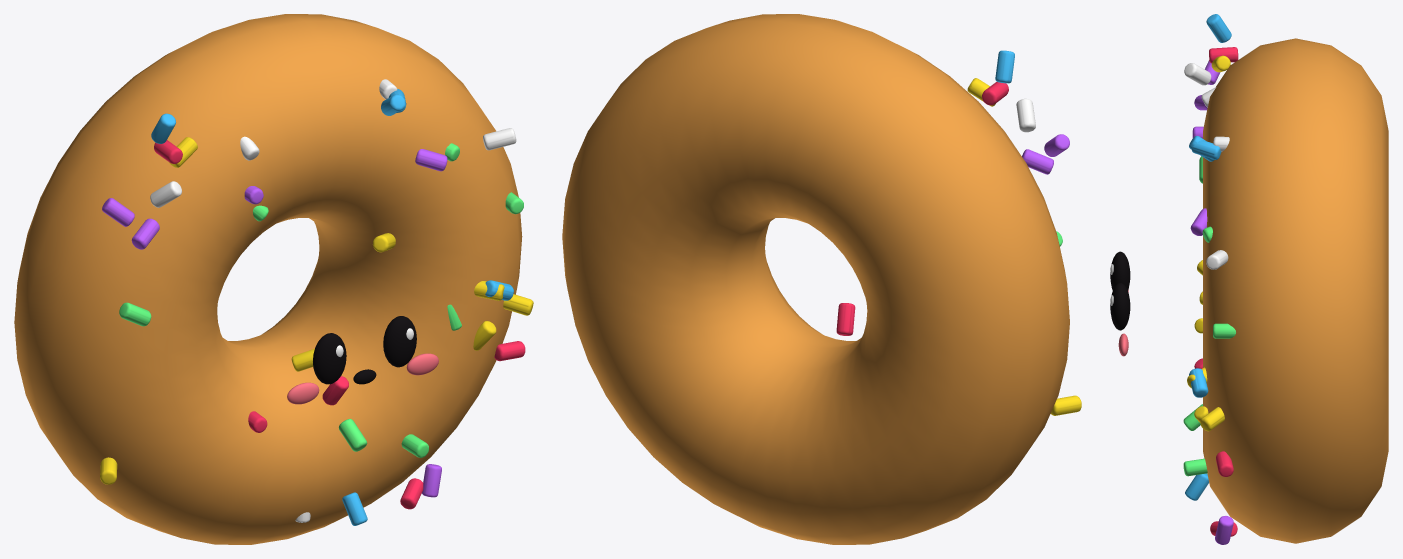
The model's file is Donut.glb.
The picture shows the model from 3 angles, left to right: view 1: azimuth 30°, elevation 25°; view 2: azimuth 150°, elevation 25°; view 3: azimuth 270°, elevation 25°; orthographic projection. The views are drawn at different scales.
Parts seen in each view (by area): view 1: Torus, Sphere.003, Sphere; view 2: Torus; view 3: Torus, Sphere.003, Sphere, Cylinder.019, Cylinder.016, Cylinder.005, Cylinder.013, Cylinder.031, Cylinder.001, Cylinder.020, Cylinder.039, Cylinder.036 (+1 smaller).
Part boxes in pixels (x1=…): Torus: x1=14, y1=14, x2=522, y2=544; Sphere.003: x1=383, y1=316, x2=416, y2=367; Sphere: x1=313, y1=333, x2=346, y2=384; Torus: x1=562, y1=14, x2=1069, y2=544; Torus: x1=1203, y1=38, x2=1388, y2=543; Sphere.003: x1=1110, y1=283, x2=1130, y2=330; Sphere: x1=1110, y1=251, x2=1130, y2=290; Cylinder.019: x1=1206, y1=14, x2=1231, y2=42; Cylinder.016: x1=1215, y1=516, x2=1233, y2=544; Cylinder.005: x1=1184, y1=63, x2=1211, y2=85; Cylinder.013: x1=1185, y1=473, x2=1208, y2=500; Cylinder.031: x1=1191, y1=140, x2=1221, y2=159; Cylinder.001: x1=1189, y1=368, x2=1208, y2=397; Cylinder.020: x1=1200, y1=407, x2=1224, y2=431; Cylinder.039: x1=1183, y1=458, x2=1207, y2=476; Cylinder.036: x1=1209, y1=47, x2=1238, y2=63.
Bounding box in the file's own units: 1.96 × 1.96 × 1.08.
